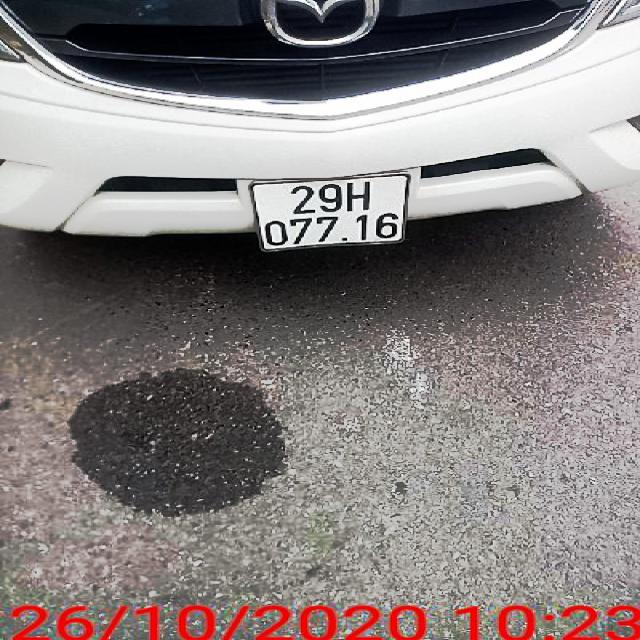license_plate: (253, 175, 406, 251)
